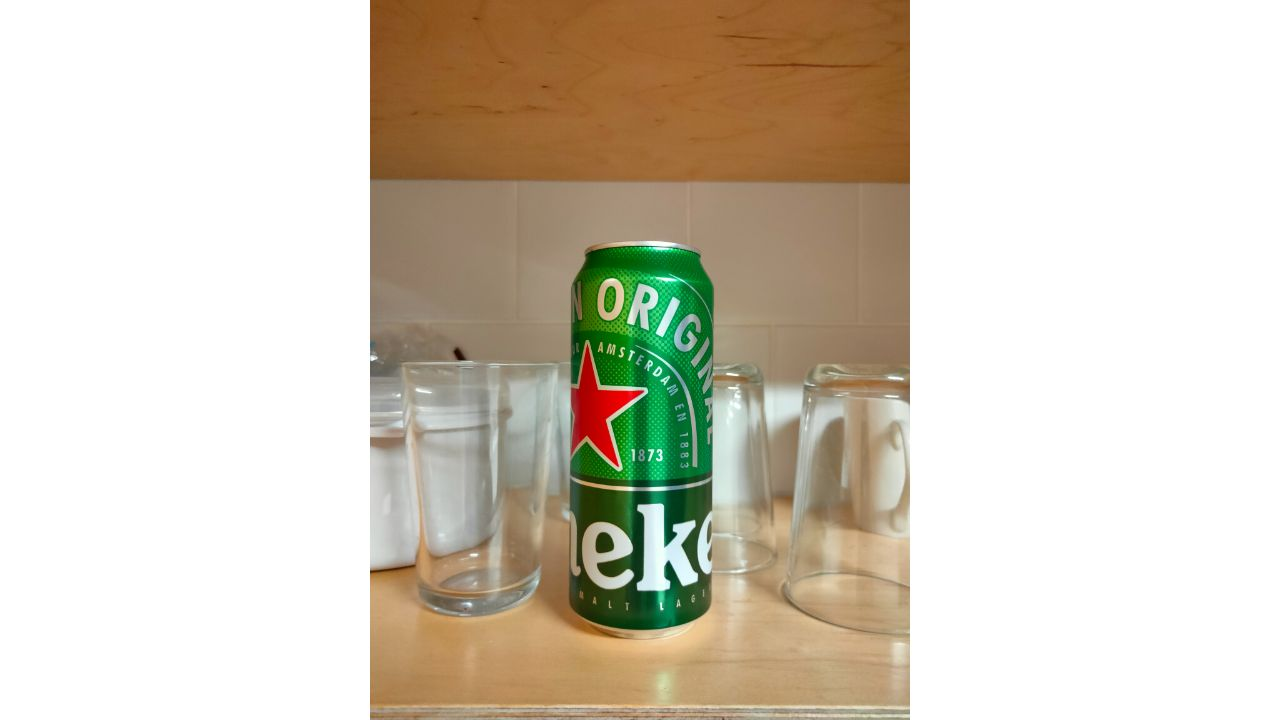Can: (568, 238, 717, 635)
